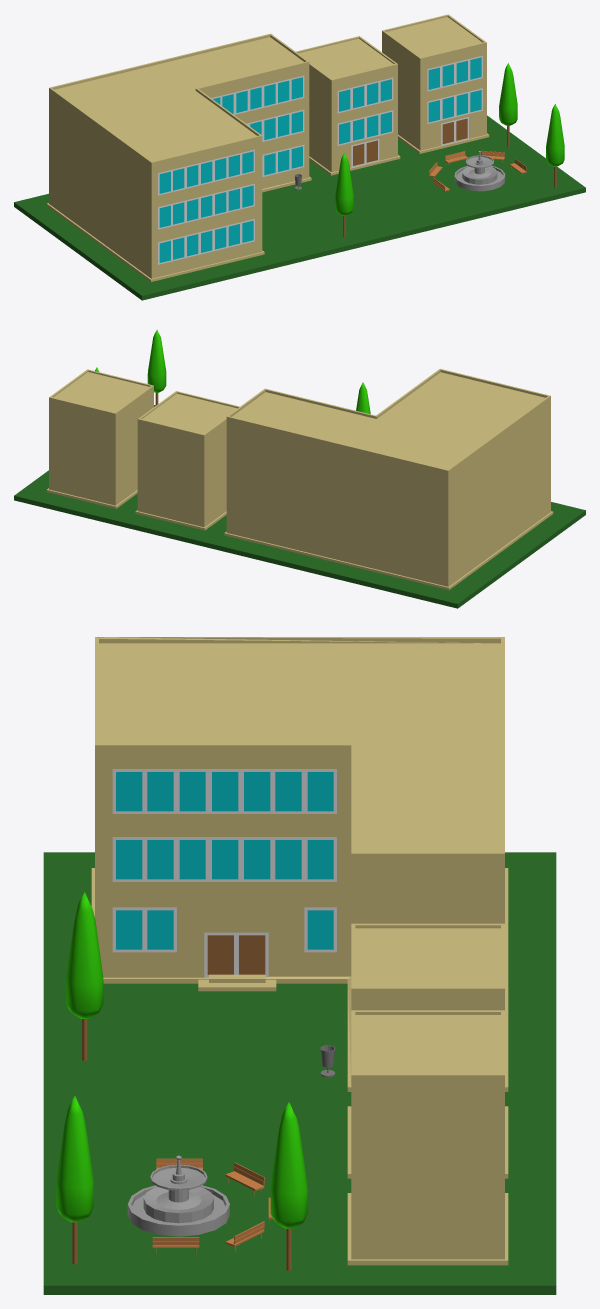
Rendered from UNI.fbx.
3 views of the same model, one above another, from view 1: azimuth 30°, elevation 25°; view 2: azimuth 150°, elevation 25°; view 3: azimuth 270°, elevation 25° (orthographic). The views are drawn at different scales.
Parts seen in each view (by area): view 1: Universidad.001, Universidad, Universidad.002, Cylinder001, Cylinder006.003, Cylinder006, Cylinder006.004; view 2: Universidad.001, Universidad.002, Universidad, Cylinder006.003; view 3: Universidad, Universidad.001, Universidad.002, Cylinder001, Cylinder006.003, Cylinder006, Cylinder006.004, Plane.083, Plane.070, Plane.069, Plane.058, Plane.048 (+14 smaller).
Boxes of the visible parts, x1,y1,x2,y2 form: Universidad.001: [46, 33, 311, 281]; Universidad: [14, 115, 585, 300]; Universidad.002: [296, 14, 489, 175]; Cylinder001: [454, 151, 505, 191]; Cylinder006.003: [546, 104, 564, 166]; Cylinder006: [335, 153, 353, 216]; Cylinder006.004: [499, 63, 517, 126]; Universidad.001: [224, 368, 553, 589]; Universidad.002: [46, 369, 239, 530]; Universidad: [14, 405, 585, 608]; Cylinder006.003: [147, 329, 166, 392]; Universidad: [43, 852, 556, 1294]; Universidad.001: [91, 637, 508, 1091]; Universidad.002: [347, 923, 508, 1265]; Cylinder001: [127, 1155, 229, 1236]; Cylinder006.003: [56, 1095, 93, 1222]; Cylinder006: [66, 892, 103, 1018]; Cylinder006.004: [270, 1102, 307, 1228]; Plane.083: [275, 772, 301, 811]; Plane.070: [147, 772, 173, 811]; Plane.069: [147, 840, 173, 879]; Plane.058: [275, 840, 301, 879]; Plane.048: [116, 910, 142, 949].
Size of the model in its own units: 200 by 53 by 100.
